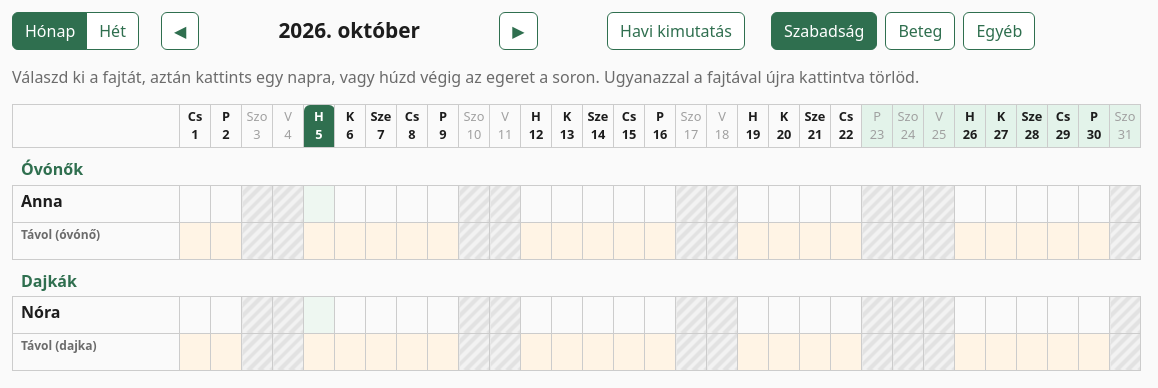
Test: AbsenceScreen › moves between months
Click the button named "Következő hónap".
click(518, 31)  # box left=499, top=12, right=538, bottom=50
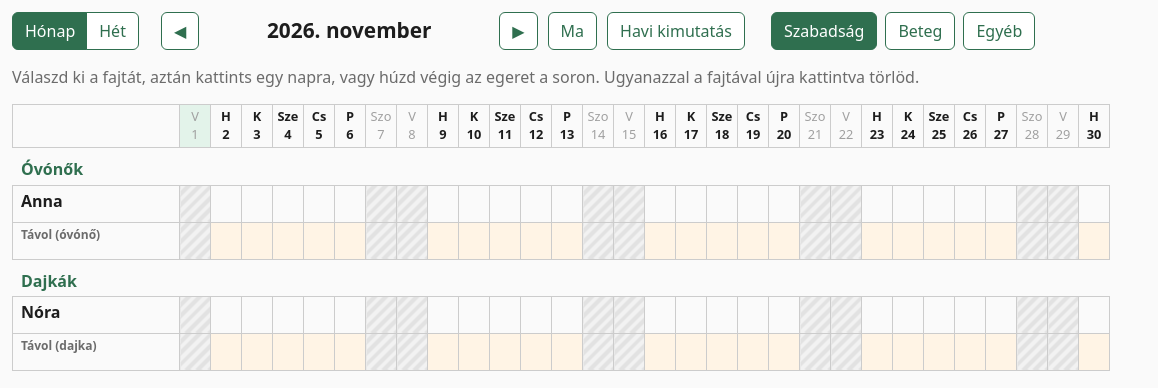
Now the heading "2026. november" is shown, box left=267, top=16, right=432, bottom=44
